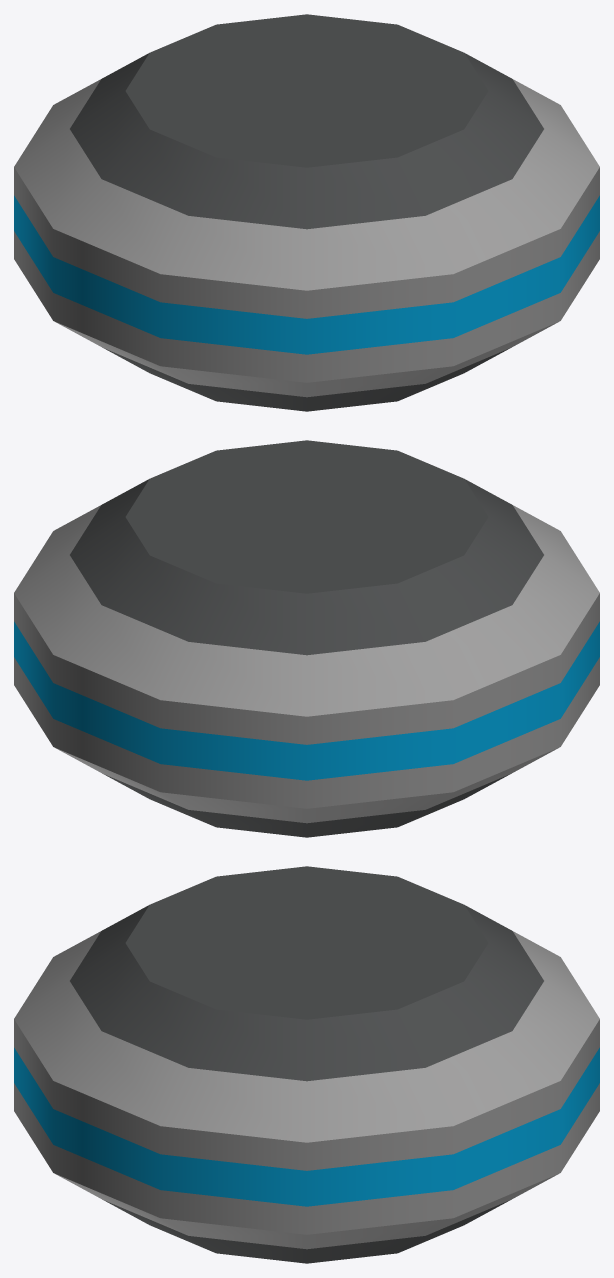
Rendered from Gauss_ammo.fbx.
3 views of the same model, one above another, from view 1: azimuth 30°, elevation 25°; view 2: azimuth 150°, elevation 25°; view 3: azimuth 270°, elevation 25° (orthographic).
Parts seen in each view (by area): view 1: Gauss_ammo; view 2: Gauss_ammo; view 3: Gauss_ammo.
Part boxes in pixels (x1,y1,x2,y2): Gauss_ammo: (14,14,599,411); Gauss_ammo: (14,440,599,837); Gauss_ammo: (14,866,599,1263).
Size of the model in its own units: 28.64 by 28.64 by 13.15.
